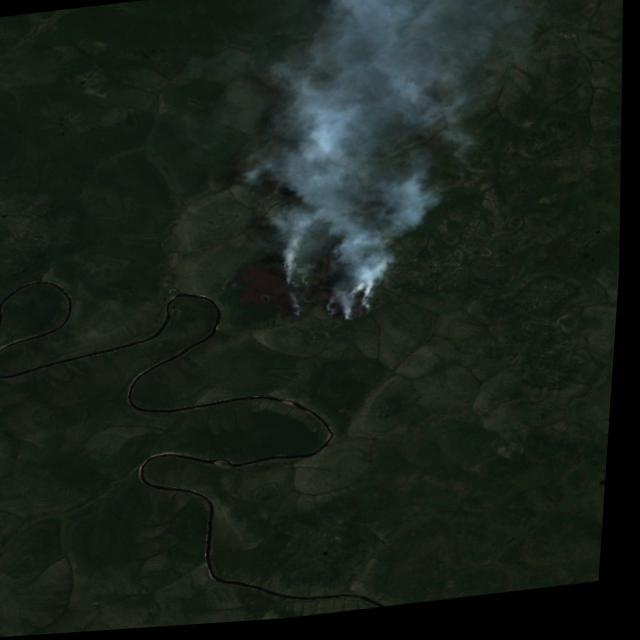fire: (205, 181, 432, 350)
